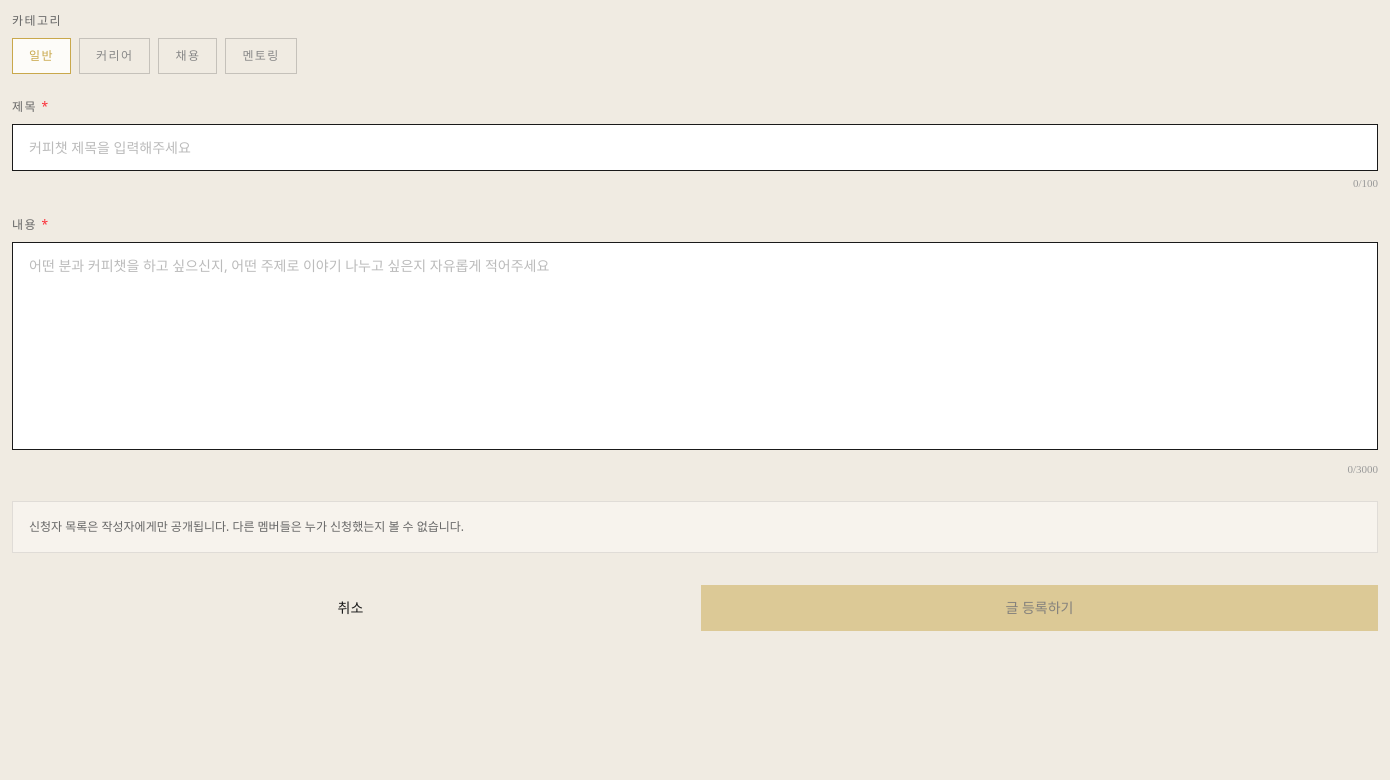
Test case: PeerChatForm › shows title character count
Type "안녕" into the field with placeholder "커피챗 제목을 입력해주세요". click: point(695, 148)
box: [12,124,1378,171]
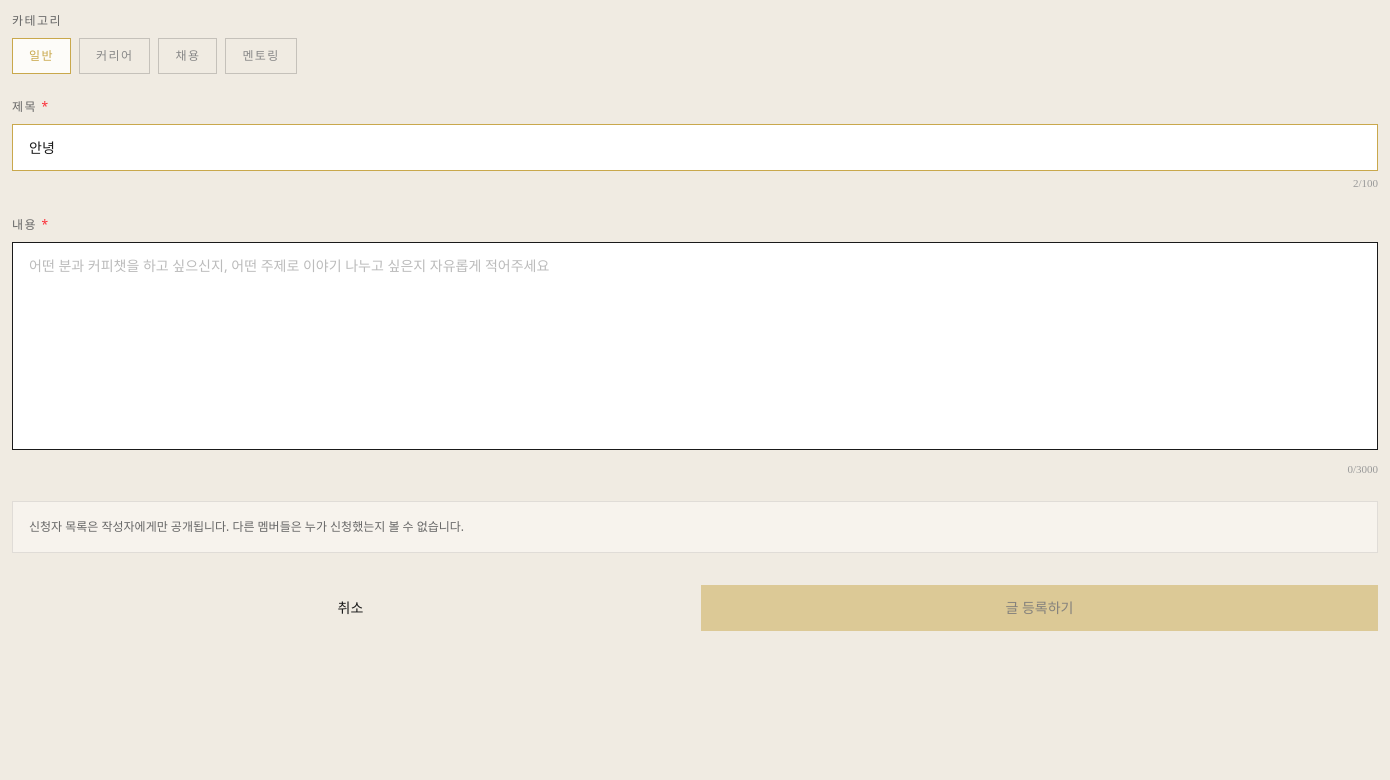
Result: the text "2/100" is shown at [1353,177,1378,189]
